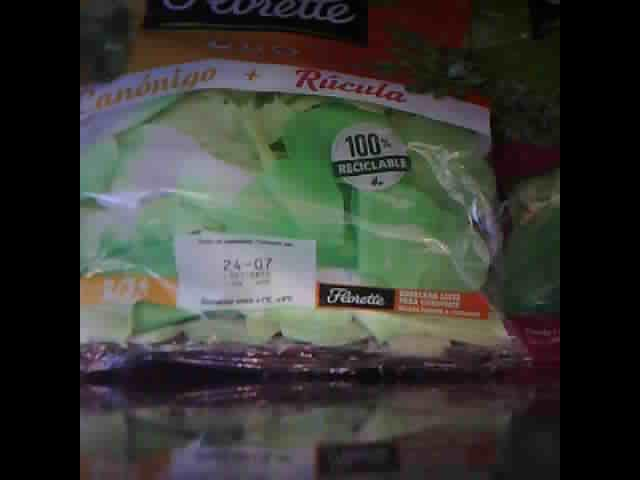florette: (81, 2, 520, 382), (471, 1, 559, 379)
